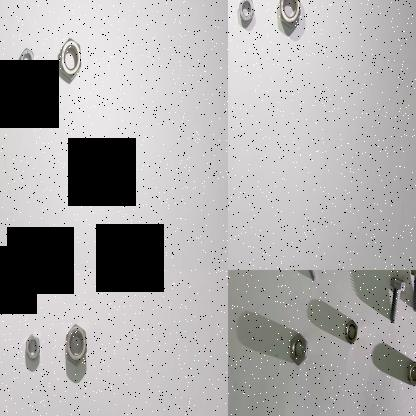Bolts: (386, 274, 406, 326), (404, 270, 416, 316), (294, 270, 318, 283)
NUTS: (53, 33, 82, 85), (60, 319, 88, 367), (285, 327, 309, 367), (12, 45, 33, 88), (275, 0, 301, 34), (22, 325, 41, 370), (233, 0, 256, 31), (342, 315, 360, 345), (407, 356, 416, 390)
